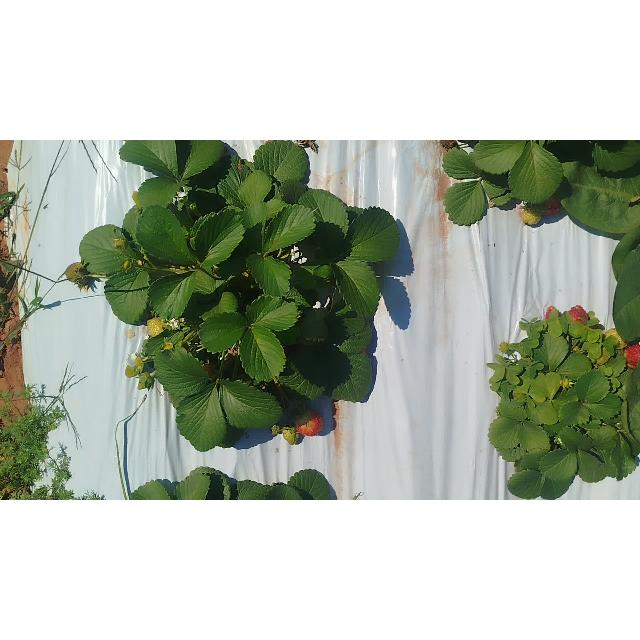maduro: (542, 198, 562, 216), (568, 306, 588, 322)
no-maduro: (65, 263, 83, 283), (282, 426, 300, 446), (521, 208, 541, 226), (147, 318, 163, 336), (125, 364, 137, 378)
semi-maduro: (296, 409, 324, 436)
